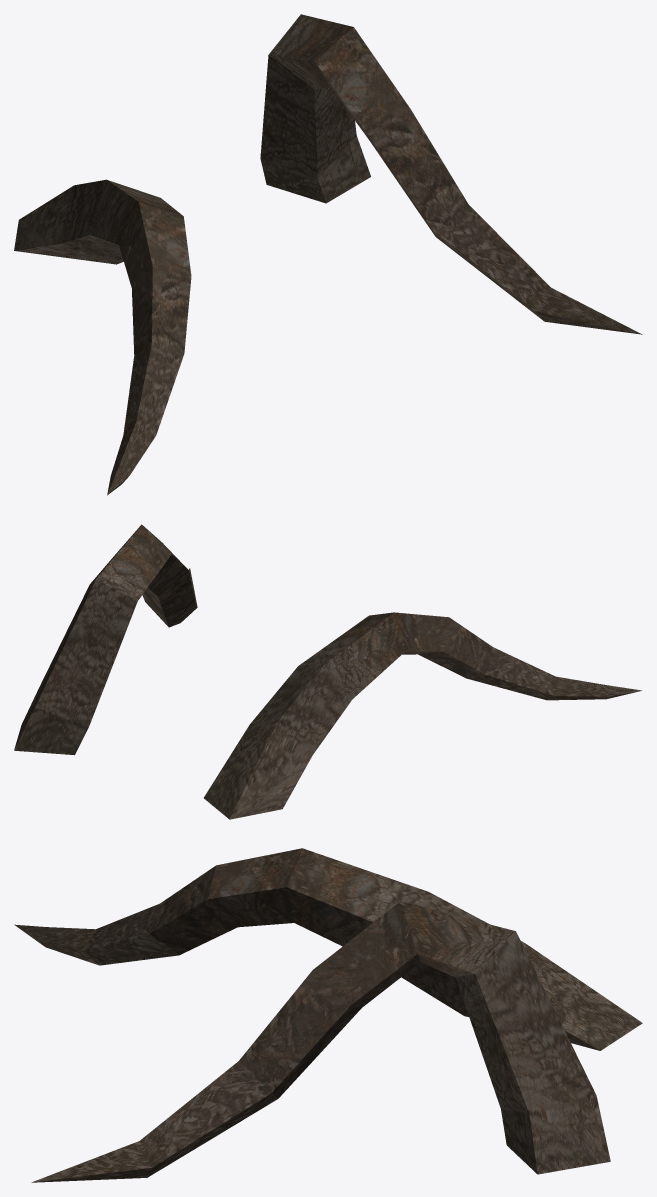
3 views of the same model, one above another, from view 1: azimuth 30°, elevation 25°; view 2: azimuth 150°, elevation 25°; view 3: azimuth 270°, elevation 25° (orthographic). The views are drawn at different scales.
Visible parts, largest first — view 1: root.003; view 2: root.003; view 3: root.003.
Part boxes in pixels (left/top/right/bottom): root.003: left=14, top=14, right=642, bottom=495; root.003: left=14, top=524, right=641, bottom=819; root.003: left=14, top=848, right=642, bottom=1182.
Size of the model in its own units: 6.15 by 2.57 by 5.79.
Materials: 1 (1 with a texture image).
